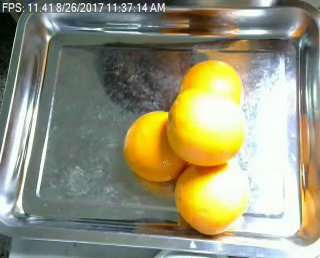Orange: (166, 87, 245, 165), (174, 159, 247, 235), (121, 109, 190, 181), (182, 58, 244, 111)
